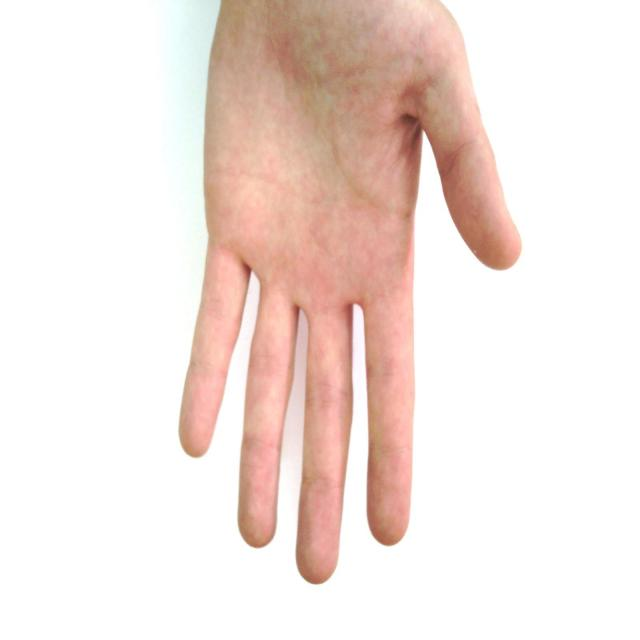others: (170, 0, 527, 588)
